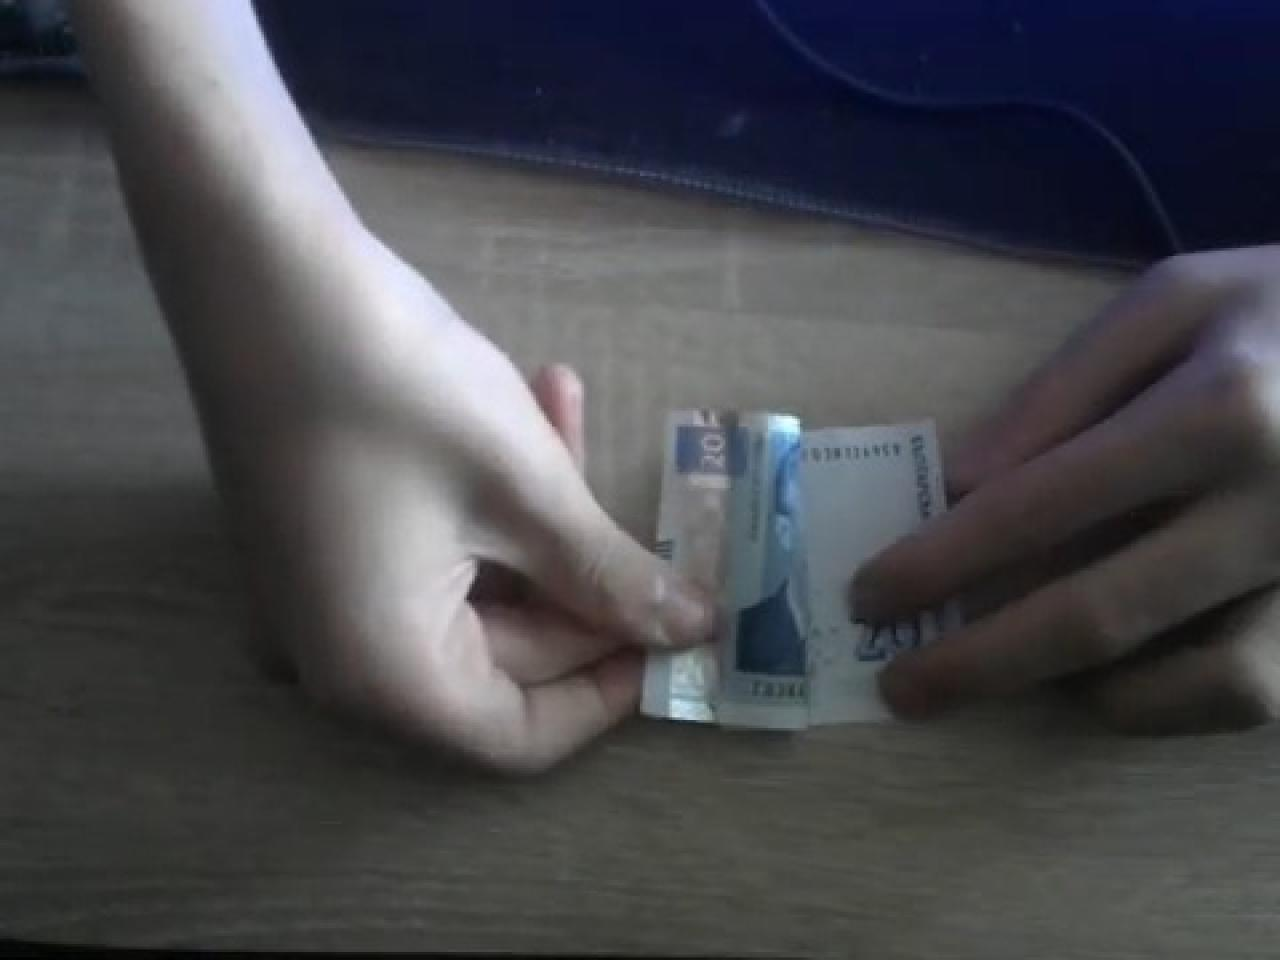20leva: (632, 402, 966, 733)
